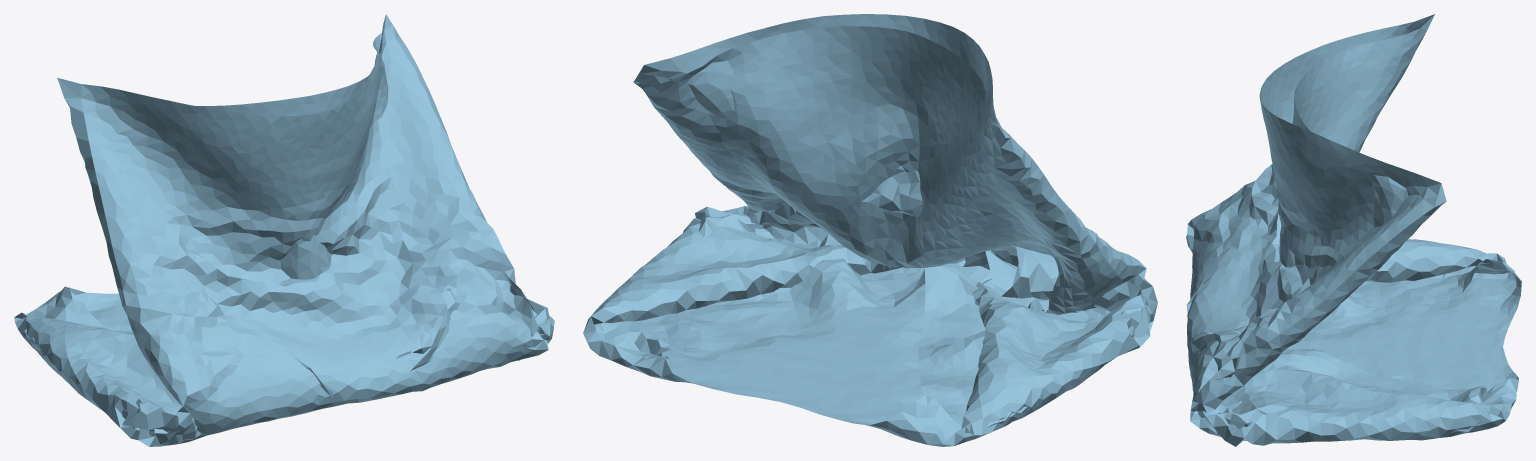
The model's file is frame_16.glb.
3 renders of one model, left to right at view 1: azimuth 30°, elevation 25°; view 2: azimuth 150°, elevation 25°; view 3: azimuth 270°, elevation 25°, orthographic. The views are drawn at different scales.
Parts seen in each view (by area): view 1: frame_16.obj; view 2: frame_16.obj; view 3: frame_16.obj.
Boxes of the visible parts, x1,y1,x2,y2 form: frame_16.obj: (14, 14, 554, 446); frame_16.obj: (583, 14, 1157, 446); frame_16.obj: (1186, 14, 1521, 446).
Bounding box in the file's own units: 1.21 × 0.7607 × 0.8779.
